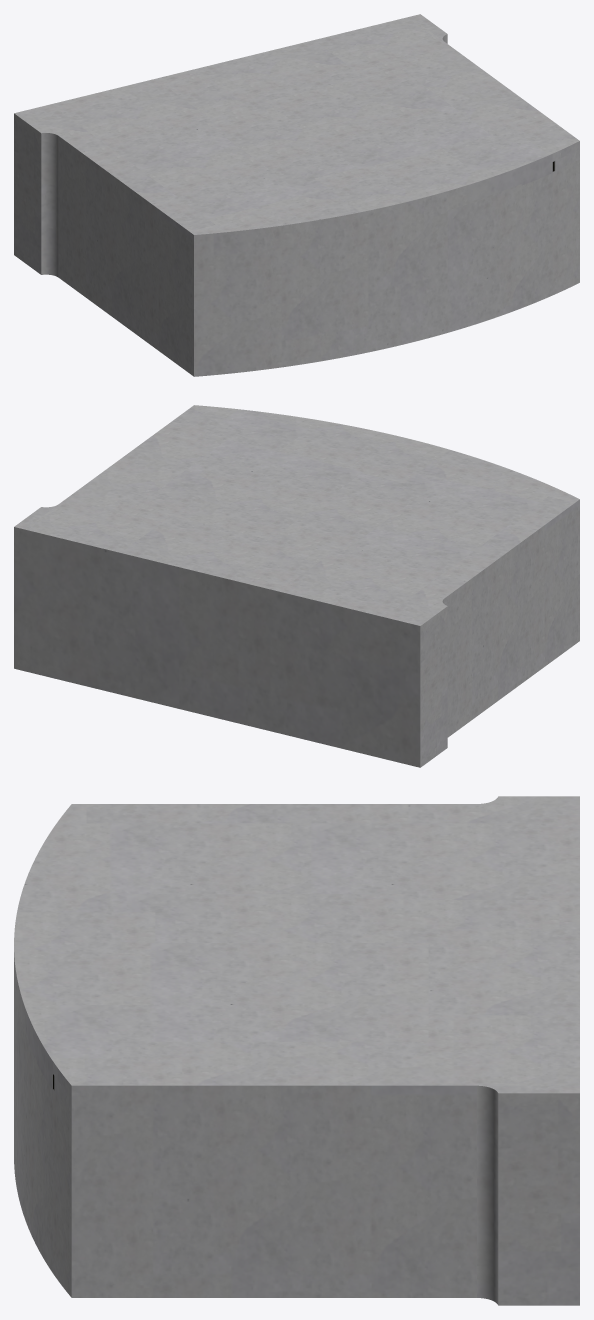
The picture shows the model from 3 angles, top to bottom: view 1: azimuth 30°, elevation 25°; view 2: azimuth 150°, elevation 25°; view 3: azimuth 270°, elevation 25°; orthographic projection. The views are drawn at different scales.
Parts seen in each view (by area): view 1: PA-653-F_LOD0; view 2: PA-653-F_LOD0; view 3: PA-653-F_LOD0.
Part boxes in pixels (x1,y1,x2,y2): PA-653-F_LOD0: (14, 14, 579, 376); PA-653-F_LOD0: (14, 405, 579, 767); PA-653-F_LOD0: (14, 796, 579, 1305).
Size of what is drawn, in the model's own units: 91.44 by 30.48 by 73.68.
